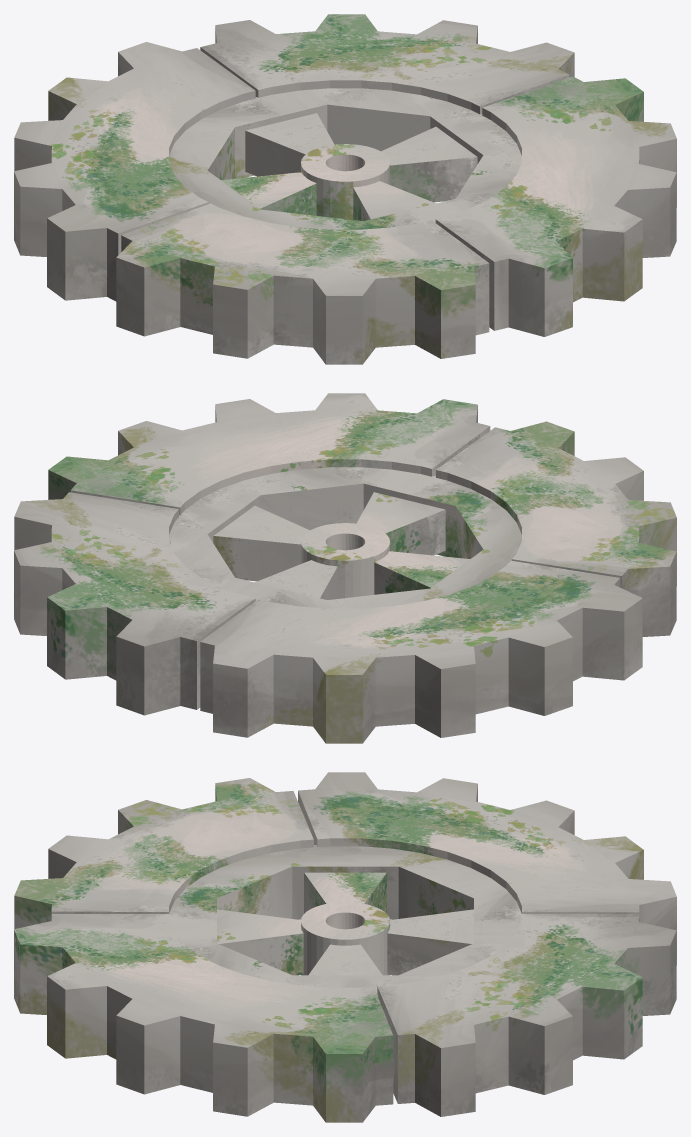
Rendered from newGear3.dae.
3 views of the same model, one above another, from view 1: azimuth 30°, elevation 25°; view 2: azimuth 150°, elevation 25°; view 3: azimuth 270°, elevation 25° (orthographic).
Visible parts, largest first — view 1: Circle, Circle.002; view 2: Circle, Circle.002; view 3: Circle, Circle.002.
Boxes of the visible parts, x1,y1,x2,y2 form: Circle: (14,14,676,364); Circle.002: (169,88,521,229); Circle: (14,393,676,743); Circle.002: (169,467,521,608); Circle: (14,772,676,1122); Circle.002: (169,845,521,996).
Size of the model in its own units: 2.56 by 2.54 by 0.2918.
2 materials, 2 textured.
